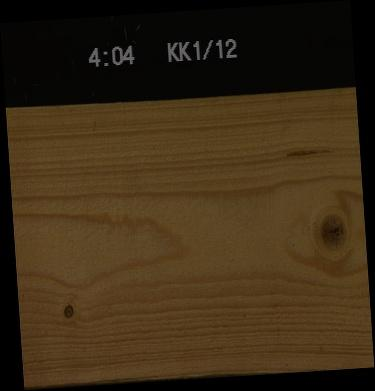dry_knot: (61, 302, 73, 318)
sound_knot: (317, 211, 347, 251)
